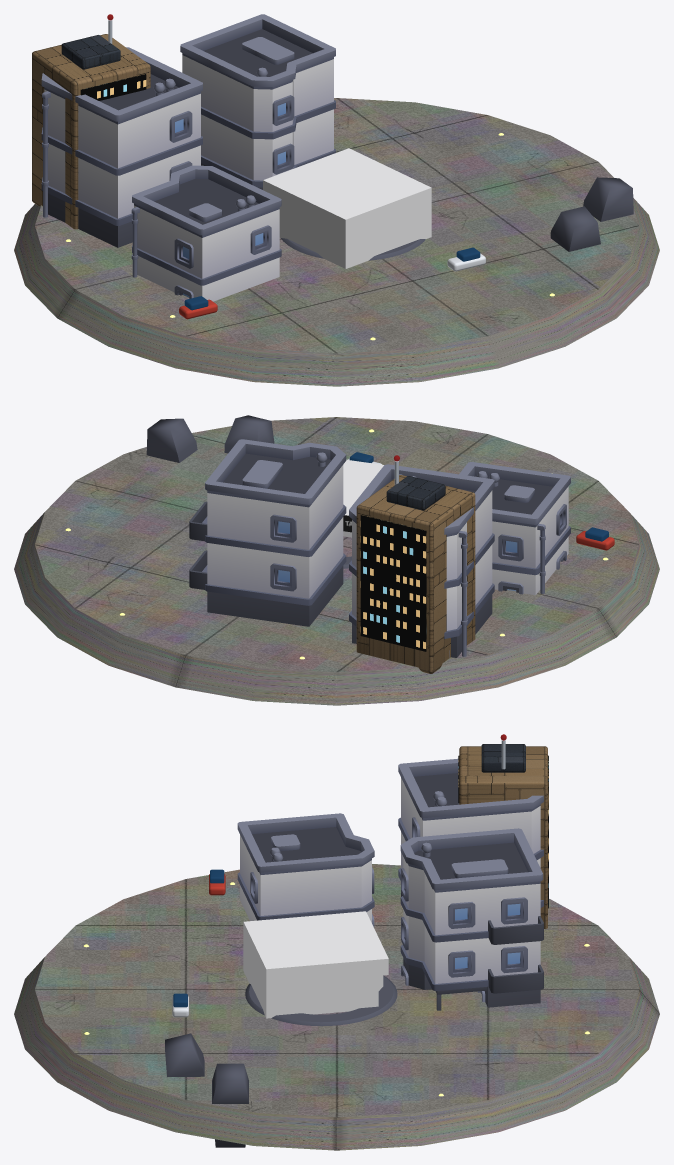
File: town-T3.glb
3 views of the same model, one above another, from view 1: azimuth 30°, elevation 25°; view 2: azimuth 150°, elevation 25°; view 3: azimuth 270°, elevation 25° (orthographic).
Parts seen in each view (by area): view 1: object 1, building-b, building-a, building-c, Mesh_noExport, object 21, grass, object 24, anim:car (×2), object 22, fountain-round; view 2: object 1, building-b, building-c, object 21, object 23, building-a, grass, object 24, Mesh_noExport, anim:car; view 3: object 1, building-b, Mesh_noExport, building-c, building-a, object 21, grass, fountain-round, object 24.
Part boxes in pixels (left/top/right/bottom): object 1: left=14, top=98, right=659, bottom=386; building-b: left=180, top=14, right=335, bottom=189; building-a: left=41, top=47, right=202, bottom=247; building-c: left=131, top=165, right=281, bottom=301; Mesh_noExport: left=263, top=148, right=431, bottom=268; object 21: left=32, top=34, right=150, bottom=229; grass: left=550, top=177, right=633, bottom=251; object 24: left=61, top=35, right=120, bottom=69; anim:car (×2): left=179, top=247, right=485, bottom=319; object 22: left=80, top=74, right=146, bottom=100; fountain-round: left=281, top=238, right=425, bottom=260; object 1: left=14, top=417, right=659, bottom=705; building-b: left=189, top=439, right=346, bottom=626; building-c: left=459, top=462, right=570, bottom=595; object 21: left=356, top=475, right=475, bottom=673; object 23: left=360, top=515, right=426, bottom=651; building-a: left=349, top=464, right=494, bottom=657; grass: left=146, top=415, right=274, bottom=462; object 24: left=386, top=476, right=445, bottom=510; Mesh_noExport: left=343, top=459, right=383, bottom=537; anim:car: left=576, top=527, right=614, bottom=550; object 1: left=14, top=864, right=659, bottom=1150; building-b: left=400, top=828, right=543, bottom=1010; Mesh_noExport: left=243, top=911, right=388, bottom=1018; building-c: left=237, top=813, right=374, bottom=927; building-a: left=398, top=758, right=543, bottom=907; object 21: left=459, top=746, right=547, bottom=928; grass: left=165, top=1033, right=248, bottom=1147; fountain-round: left=245, top=975, right=397, bottom=1026; object 24: left=481, top=744, right=525, bottom=772.
Bounding box in the file's own units: 6.2 × 2.51 × 6.2.
23 materials, 12 textured.
